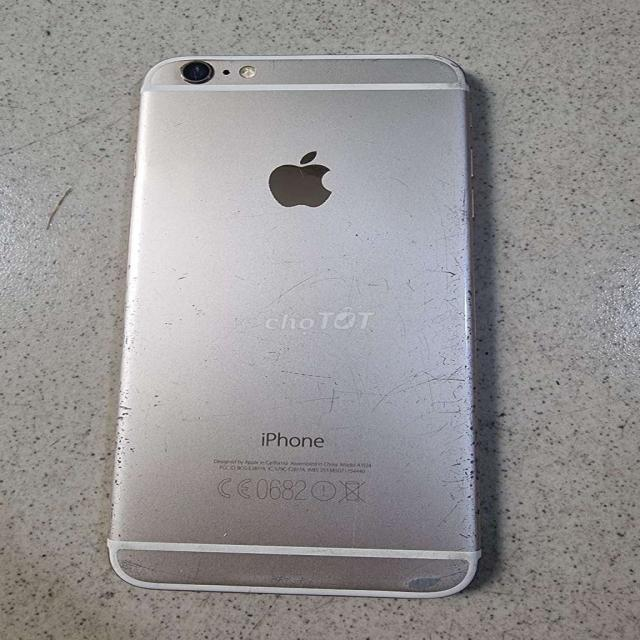gen_6: (108, 56, 480, 598)
scratch: (375, 134, 496, 597), (114, 314, 179, 558), (258, 314, 378, 435), (117, 544, 180, 598)
